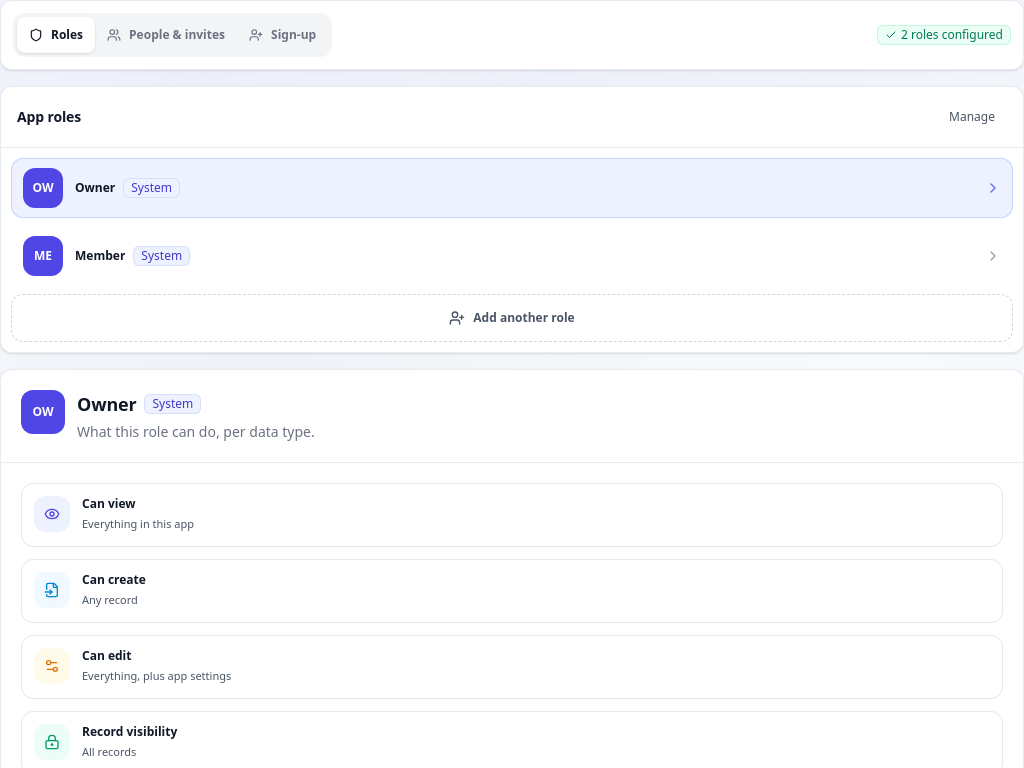
Test: AccessStep › renders the People tab without looping (regression: unstable ?? [] selectors)
Click the tab "People & invites".
click(166, 35)  # box [95, 17, 237, 53]
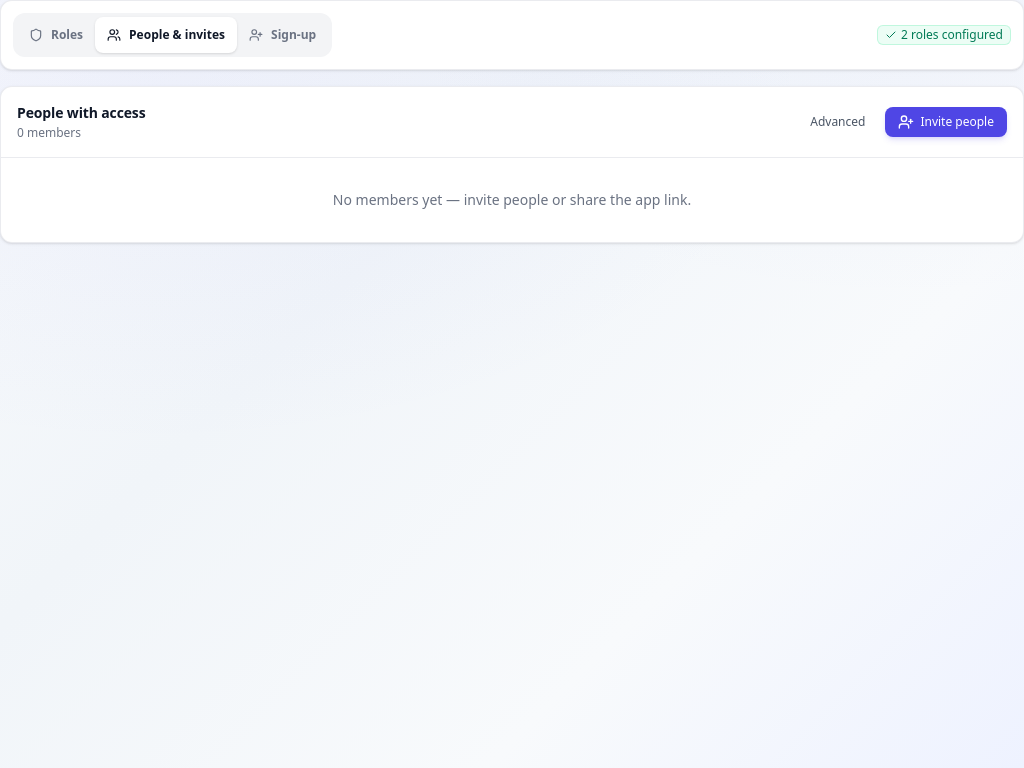
Expected: the text "People with access" is shown, [17, 103, 146, 123]
